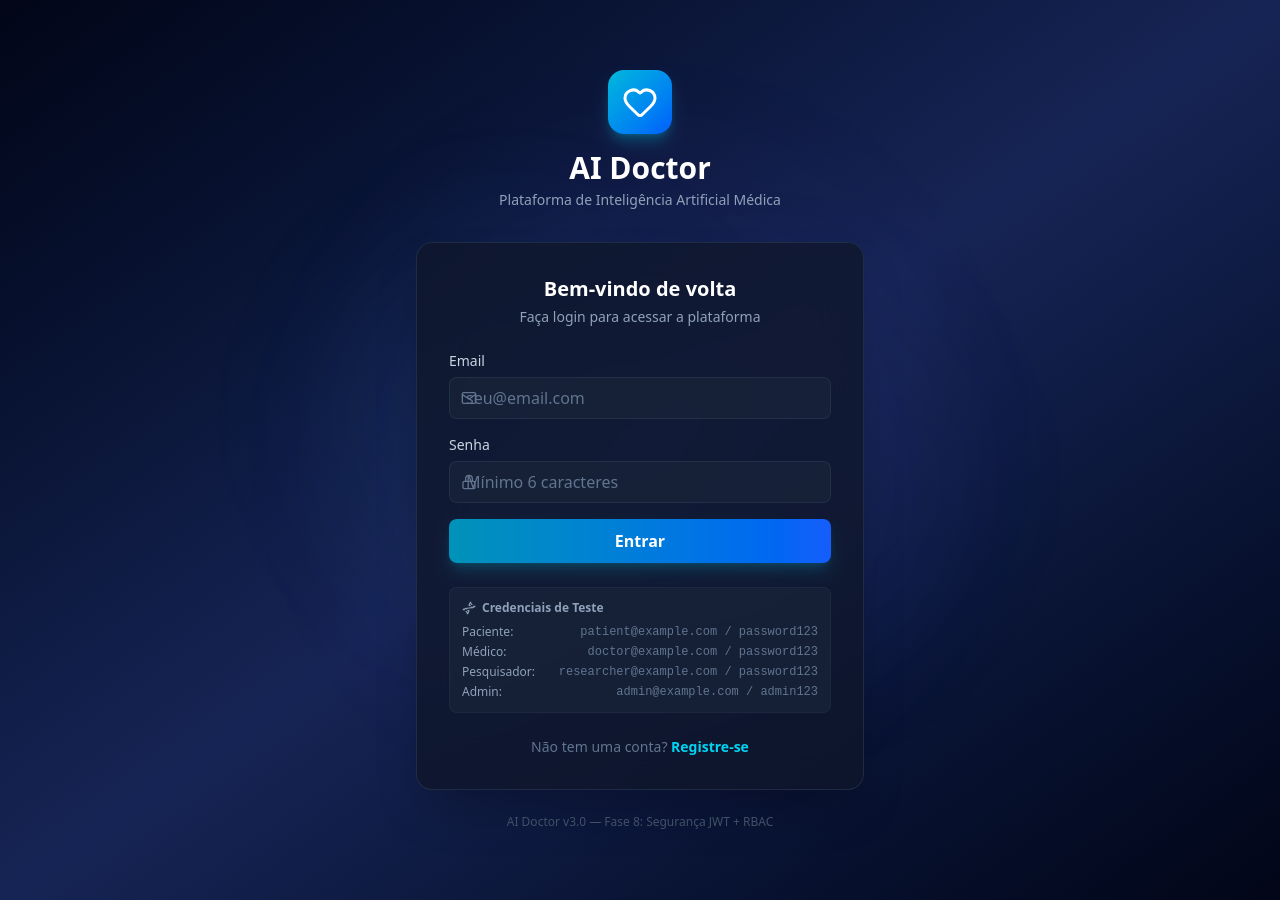
Test: LoginPage › toggles back to login mode when "Faça login" is clicked
Click the button "Registre-se".
click(710, 747)  # box x1=671 y1=737 x2=749 y2=757
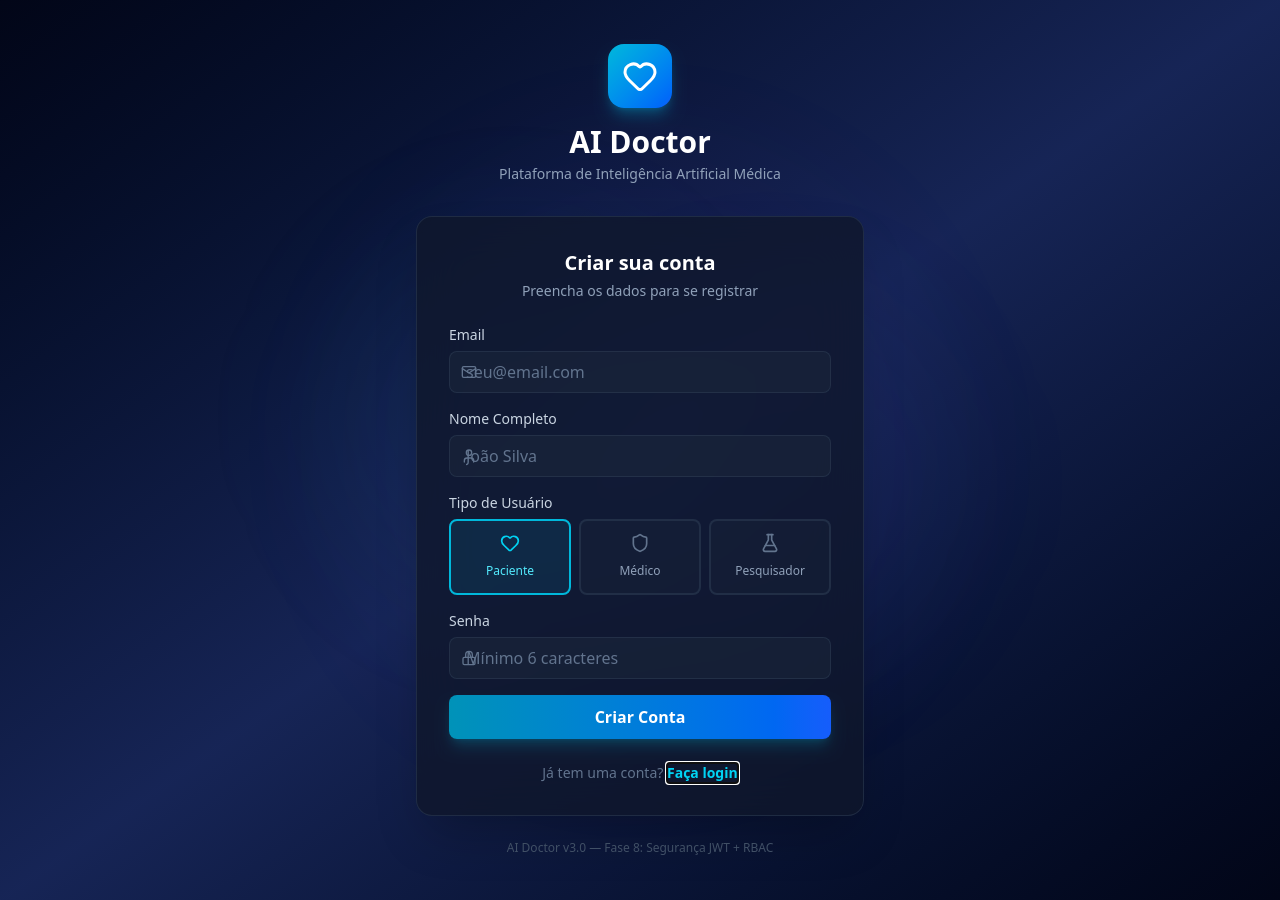
Click the button "Faça login".
click(702, 773)  # box x1=667 y1=763 x2=738 y2=783
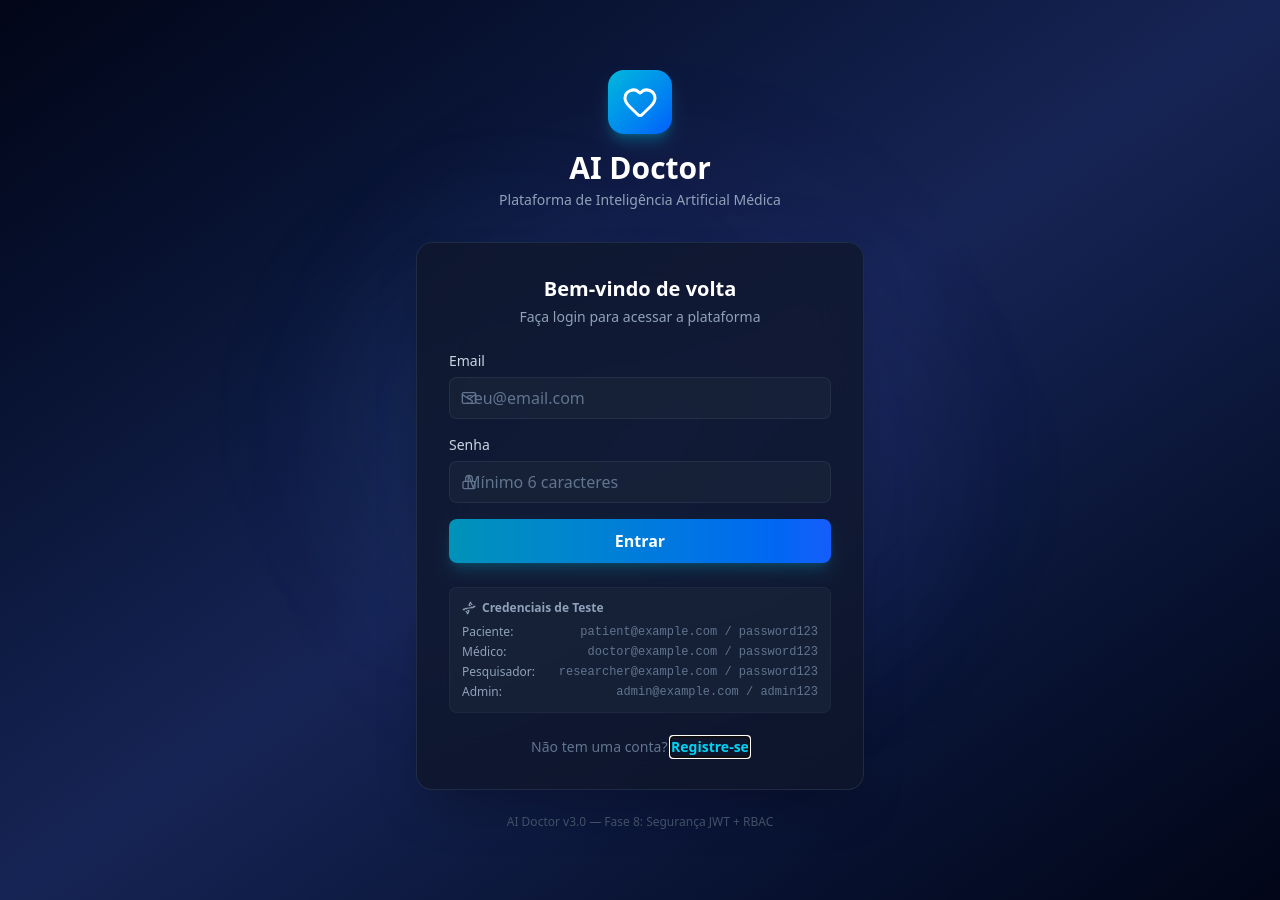
Now the heading "Bem-vindo de volta" is shown, box x1=544 y1=275 x2=736 y2=302
